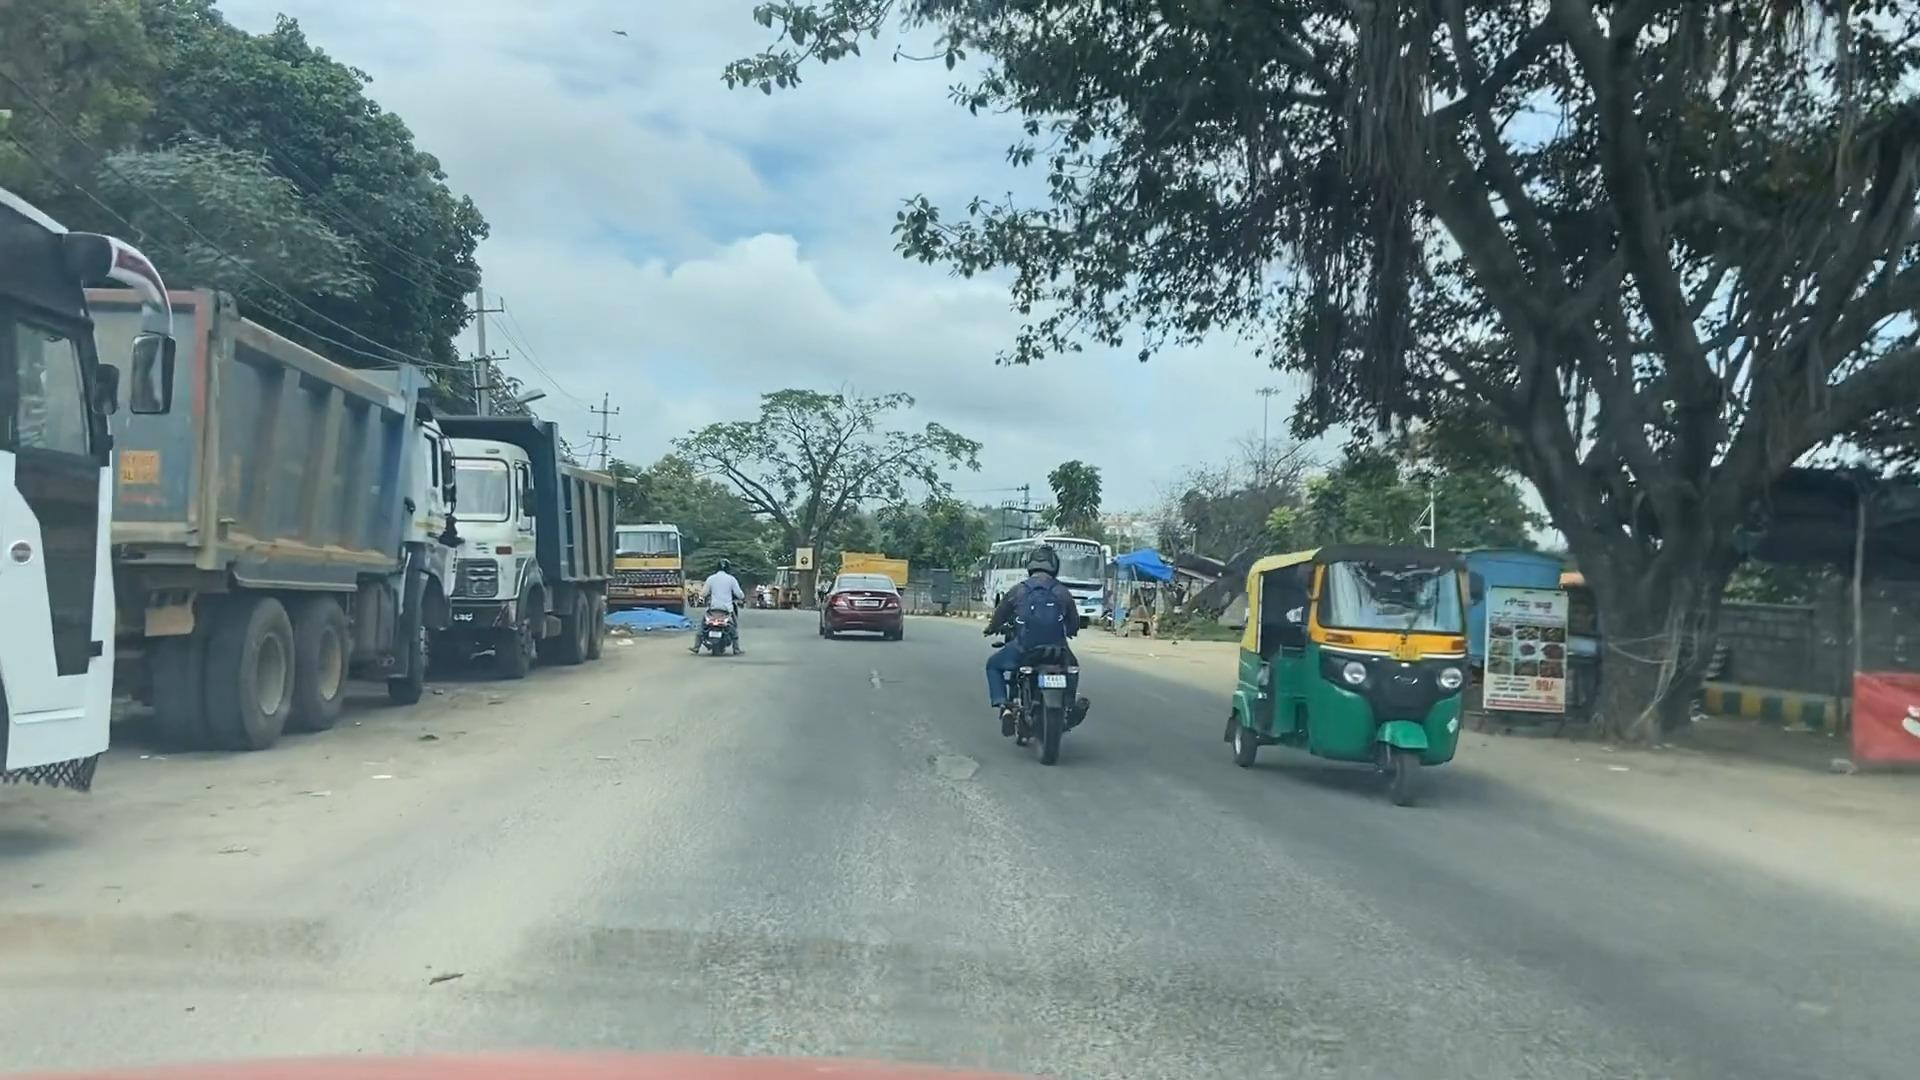HMV: (109, 274, 455, 773), (4, 162, 177, 924), (444, 380, 618, 673), (959, 529, 1116, 625), (618, 506, 691, 626)
LMV: (1222, 518, 1487, 814), (969, 510, 1118, 795), (673, 541, 761, 690), (816, 549, 923, 649), (749, 549, 781, 626)
RoadDamages: (894, 703, 1007, 829)
